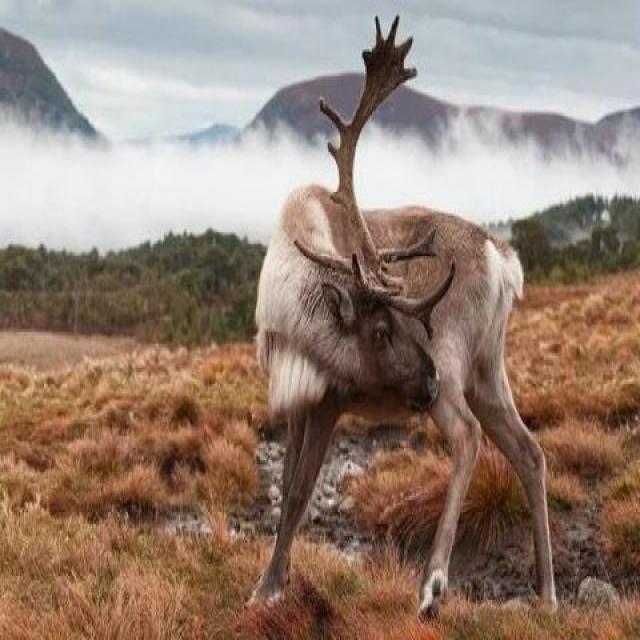deer: (225, 120, 523, 544)
